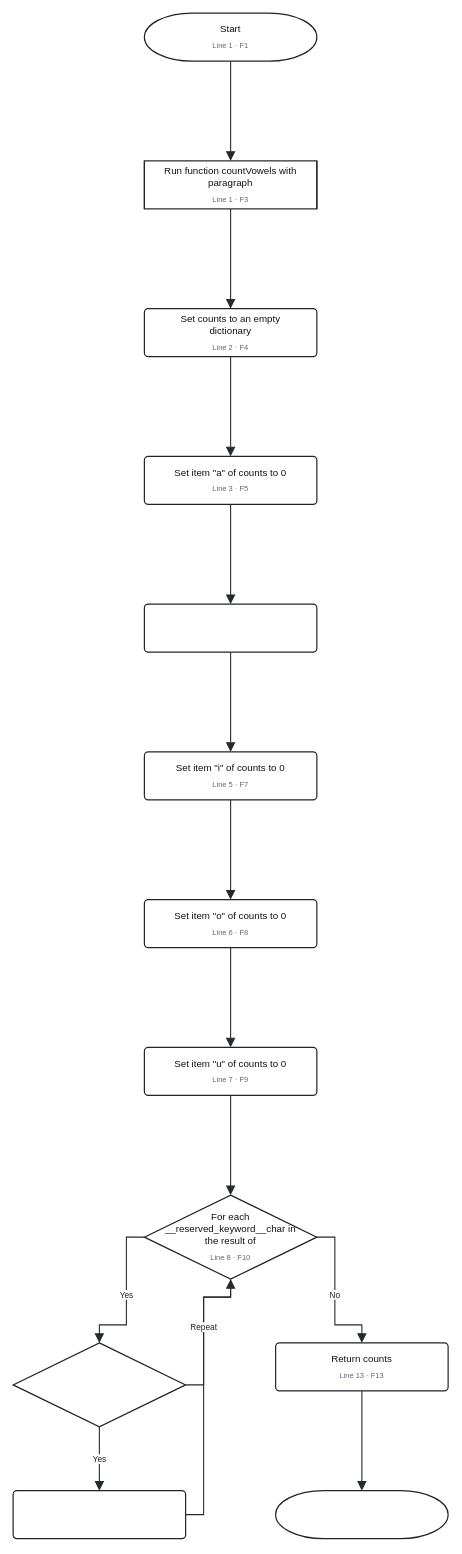
Image size: 462x1554. Some labels were removed from this diagram. The box of each missing label's shape, as (x1, y1, x2, y2) in pixels:
__reserved_keyword__char is contained in counts? Line 9 · F11: (12, 1342, 186, 1427)
End Line 1 · F2: (275, 1490, 448, 1539)
Set item "e" of counts to 0 Line 4 · F6: (143, 603, 317, 652)
Set item __reserved_keyword__char of counts to item Line 10 · F12: (12, 1490, 186, 1539)
